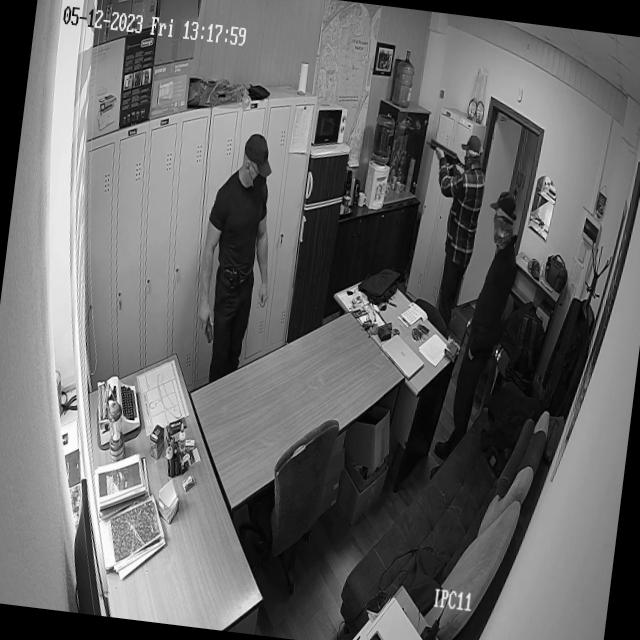gun: (422, 136, 468, 171)
person: (426, 184, 526, 490), (187, 128, 289, 390)
person with a gun: (404, 126, 492, 326)
